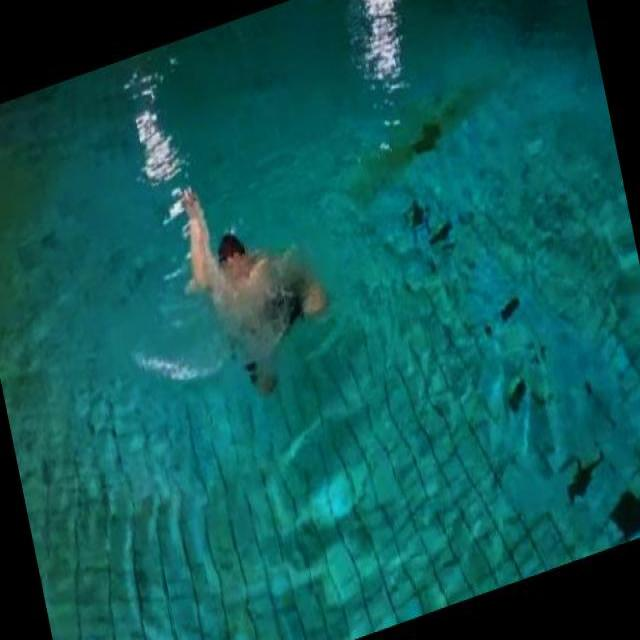Drowning: (177, 181, 328, 377)
